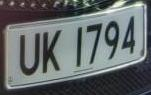1: (71, 23, 85, 71)
4: (121, 14, 138, 59)
7: (83, 21, 104, 68)
9: (103, 17, 121, 63)
K: (41, 26, 64, 80)
U: (17, 28, 42, 80)
